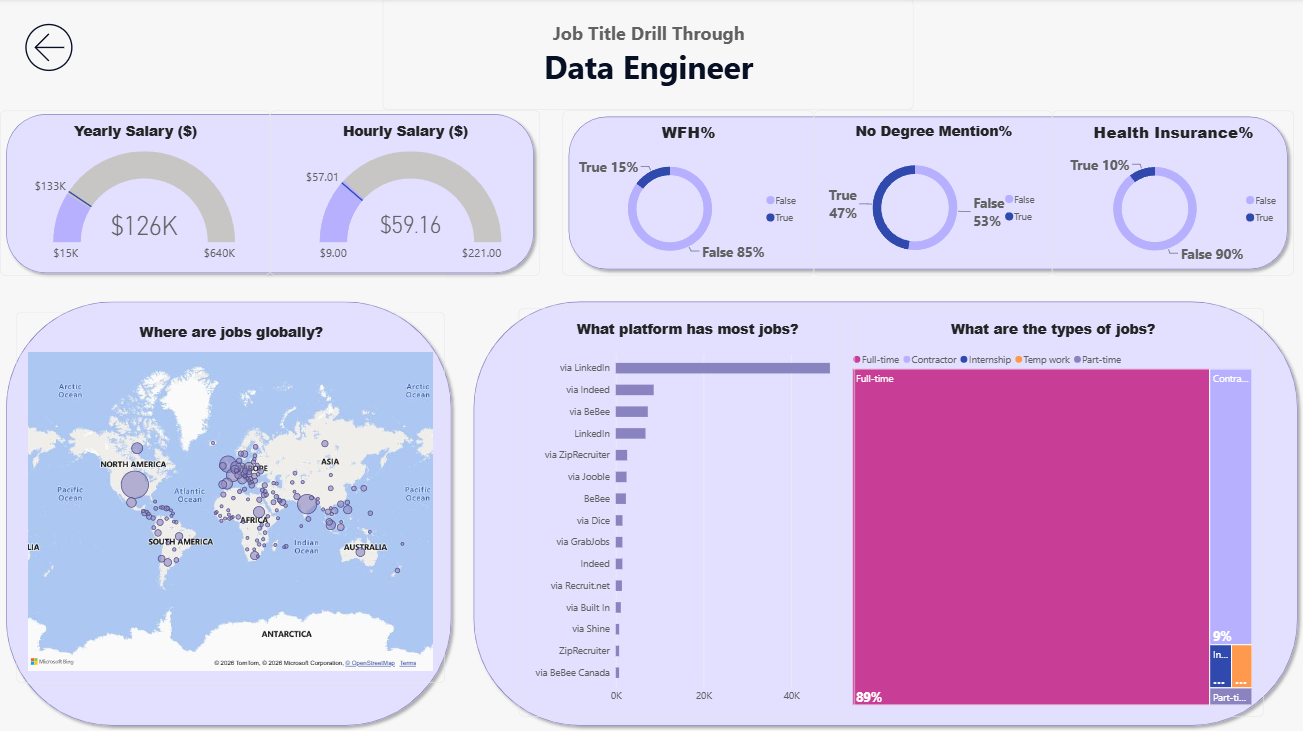

The page's visual inventory and layout, read from the dashboard file:
{"tool":"powerbi","page":{"name":"Job Title Drillthrough","canvas":[1920,1080],"ordinal":1},"visuals":[{"type":"group","id":"g1","title":"Background","box":[0,161.4,1919.6,918.9],"z":0},{"type":"shape","box":[0,161.4,795.1,252.1],"z":0,"group":"g1"},{"type":"cardVisual","fields":{"Data":["Min(job_postings_flat.job_title_short)1"]},"box":[563.2,0,782.2,165.6],"z":1000},{"type":"shape","box":[828.2,165.6,1076.7,242.9],"z":1000,"group":"g1"},{"type":"actionButton","box":[0,0,144.5,146.4],"z":2000},{"type":"shape","box":[0,436.8,673.6,642.3],"z":2000,"group":"g1"},{"type":"gauge","title":"Yearly Salary ($)","fields":{"Y":["Median(job_postings_flat.salary_year_avg)"],"MinValue":["Min(job_postings_flat.salary_year_avg)1"],"MaxValue":["Max(job_postings_flat.salary_year_avg)2"],"TargetValue":["Avg(job_postings_flat.salary_year_avg)"]},"box":[0,165.6,397.5,242.9],"z":3000},{"type":"shape","box":[688.3,438,1231.3,642.3],"z":3000,"group":"g1"},{"type":"gauge","title":"Hourly Salary ($)","fields":{"Y":["Median(job_postings_flat.salary_hour_avg)"],"MinValue":["Min(job_postings_flat.salary_hour_avg)"],"MaxValue":["Max(job_postings_flat.salary_hour_avg)"],"TargetValue":["Avg(job_postings_flat.salary_hour_avg)"]},"box":[397.5,165.6,397.5,242.9],"z":4000},{"type":"donutChart","title":"WFH%","fields":{"Category":["job_postings_flat.job_work_from_home"],"Y":["CountNonNull(job_postings_flat.job_work_from_home)"]},"box":[828.2,165.6,369.9,242.9],"z":5000},{"type":"donutChart","title":"No Degree Mention%","fields":{"Category":["job_postings_flat.job_no_degree_mention"],"Y":["CountNonNull(job_postings_flat.job_no_degree_mention)"]},"box":[1198.2,165.6,351.5,242.9],"z":6000},{"type":"donutChart","title":"Health Insurance%","fields":{"Category":["job_postings_flat.job_health_insurance"],"Y":["CountNonNull(job_postings_flat.job_health_insurance)"]},"box":[1549.7,165.6,355.2,242.9],"z":7000},{"type":"map","title":"Where are jobs globally?","fields":{"Category":["job_postings_flat.job_country"],"Size":["CountNonNull(job_postings_flat.job_title_short)"]},"box":[23.9,462,631.3,546.6],"z":8000},{"type":"treemap","title":"What are the types of jobs?","fields":{"Group":["job_postings_flat.job_schedule_type"],"Values":["CountNonNull(job_postings_flat.job_schedule_type)"]},"box":[1238.7,456.4,622.1,601.8],"z":9000},{"type":"barChart","title":"What platform has most jobs?","fields":{"Category":["job_postings_flat.job_via"],"Y":["CountNonNull(job_postings_flat.job_via)"]},"box":[763.8,456.4,495.1,601.8],"z":10000}]}

Visuals, with their boxes in screenshot pixels (x1, y1, x2, y2), scaled from the page's 1920x1080 canvas onto the 1303x731 screenshot:
"Background" group: l=0, t=109, r=1302, b=730
shape: l=0, t=109, r=540, b=280
cardVisual - Min(job_postings_flat.job_title_short)1: l=382, t=0, r=913, b=112
shape: l=562, t=112, r=1293, b=276
actionButton: l=0, t=0, r=98, b=99
shape: l=0, t=296, r=457, b=730
"Yearly Salary ($)" gauge: l=0, t=112, r=270, b=276
shape: l=467, t=296, r=1302, b=730
"Hourly Salary ($)" gauge: l=270, t=112, r=540, b=276
"WFH%" donutChart: l=562, t=112, r=813, b=276
"No Degree Mention%" donutChart: l=813, t=112, r=1052, b=276
"Health Insurance%" donutChart: l=1052, t=112, r=1293, b=276
"Where are jobs globally?" map: l=16, t=313, r=445, b=683
"What are the types of jobs?" treemap: l=841, t=309, r=1263, b=716
"What platform has most jobs?" barChart: l=518, t=309, r=854, b=716
